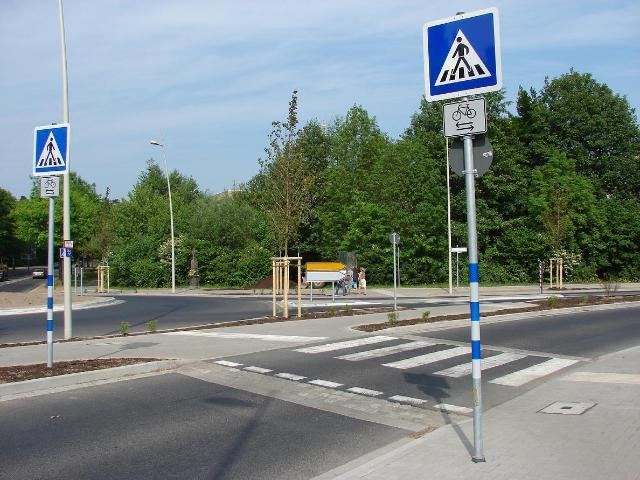crosswalk-sign: (423, 8, 503, 103), (34, 124, 71, 177)
